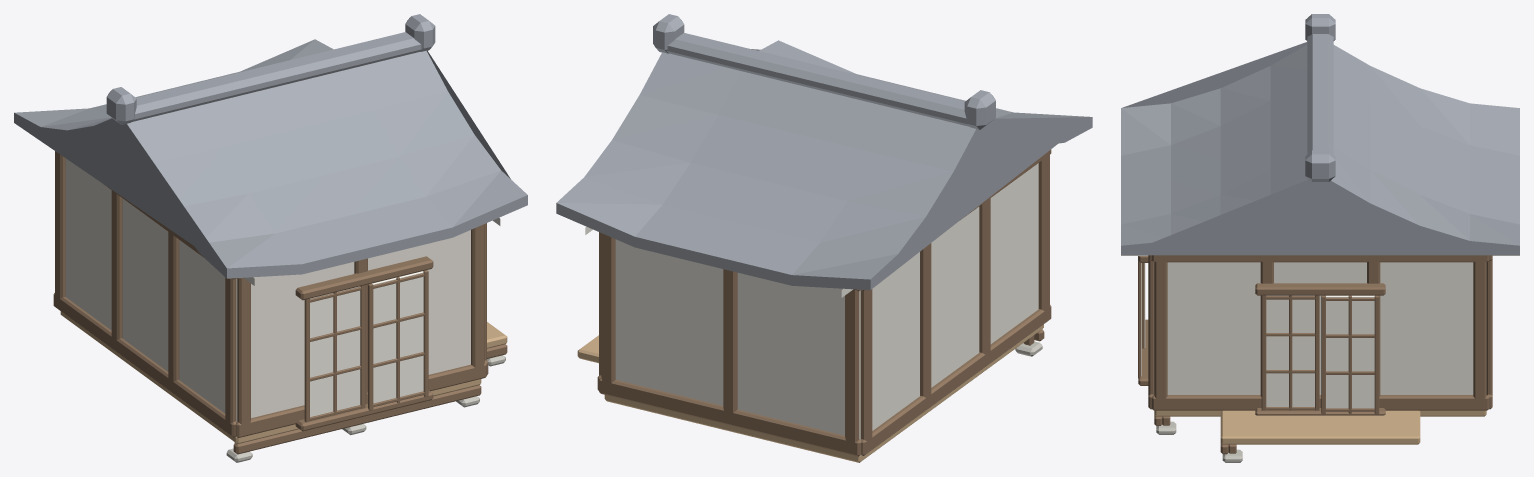
File: townhouse-corner.glb
3 views of the same model, side by side, from view 1: azimuth 30°, elevation 25°; view 2: azimuth 150°, elevation 25°; view 3: azimuth 270°, elevation 25° (orthographic). The views are drawn at different scales.
Parts seen in each view (by area): view 1: townhouse-corner; view 2: townhouse-corner; view 3: townhouse-corner.
Part boxes in pixels (box(x1,y1,x2,y2)): townhouse-corner: box(14, 14, 527, 462); townhouse-corner: box(556, 14, 1092, 462); townhouse-corner: box(1121, 14, 1519, 462).
Bounding box in the file's own units: 5.6 × 4.91 × 6.
